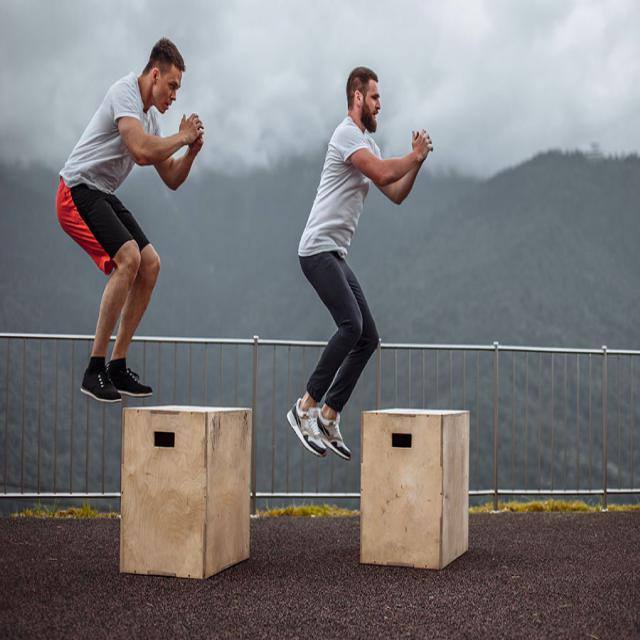Box: (114, 395, 261, 580), (354, 401, 477, 582)
